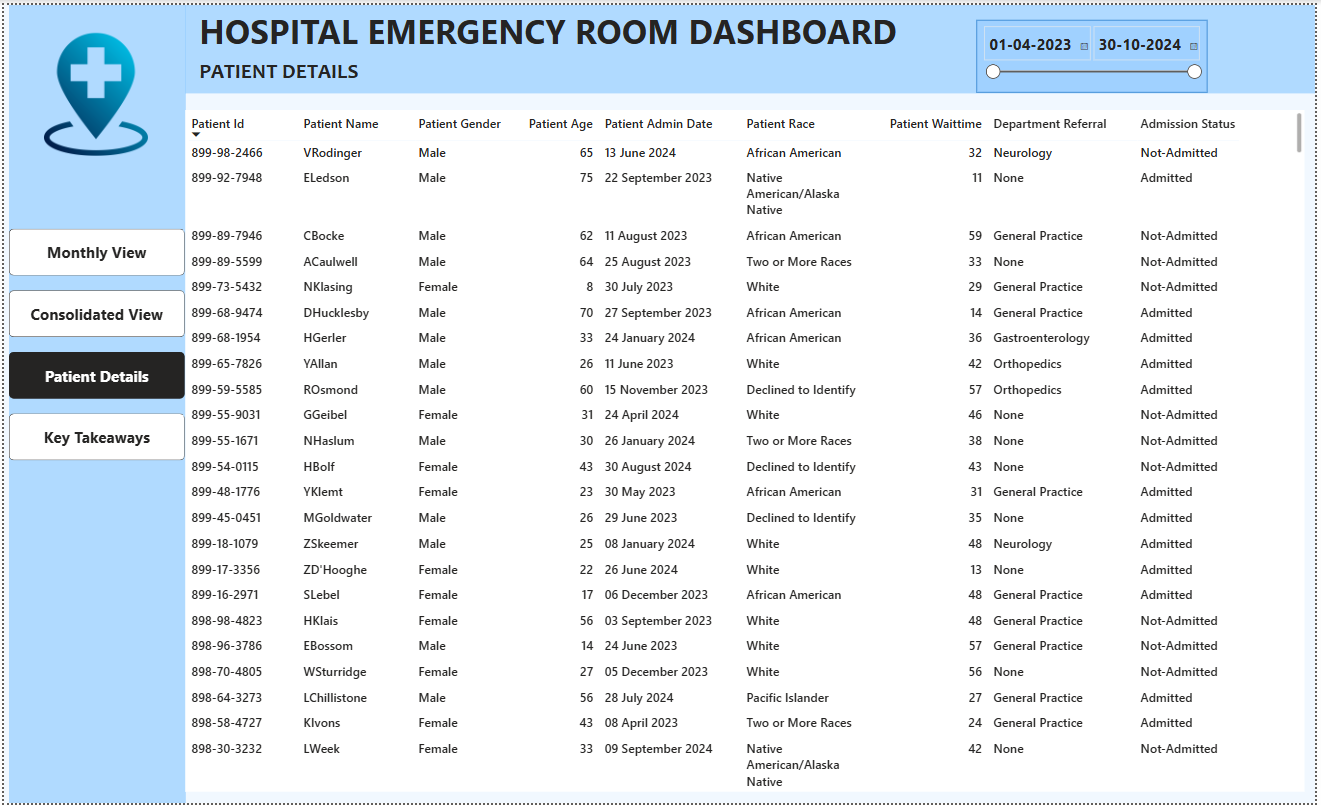

The dashboard page shown, as its layout file describes it:
{"tool":"powerbi","page":{"name":"Patient Details","canvas":[2300,1400],"ordinal":2},"visuals":[{"type":"shape","box":[9.5,0,310,1400.5],"z":0},{"type":"shape","box":[318.6,0,1980.6,155],"z":1000},{"type":"textbox","box":[337.6,0,1241.2,88],"z":2000},{"type":"textbox","box":[337,88.1,373.3,64.8],"z":3000},{"type":"slicer","fields":{"Values":["Date Table.Date"]},"box":[1705.8,25.9,404.4,127],"z":4000},{"type":"image","box":[46.7,44.1,230.7,225.5],"z":5000},{"type":"tableEx","fields":{"Values":["Hospital ER_Data.Patient Id","Hospital ER_Data.Patient Full Name","Hospital ER_Data.Patient Gender","Hospital ER_Data.Patient Age","Hospital ER_Data.Patient Admin Date","Hospital ER_Data.Patient Race","Hospital ER_Data.Patient Waittime","Hospital ER_Data.Department Referral","Hospital ER_Data.Admission Status"]},"box":[326.6,157.8,1963.7,1242.6],"z":6000},{"type":"pageNavigator","box":[7.8,391.5,308.5,407],"z":7000}]}

Visuals, with their boxes in screenshot pixels (x1, y1, x2, y2), scaled from the page's 2300x1400 canvas onto the 1321x805 screenshot:
shape: 5, 0, 184, 804
shape: 183, 0, 1320, 89
textbox: 194, 0, 907, 51
textbox: 194, 51, 408, 88
slicer - Date Table.Date: 980, 15, 1212, 88
image: 27, 25, 159, 155
tableEx - Hospital ER_Data.Patient Id x Hospital ER_Data.Patient Full Name: 188, 91, 1315, 804
pageNavigator: 4, 225, 182, 459
